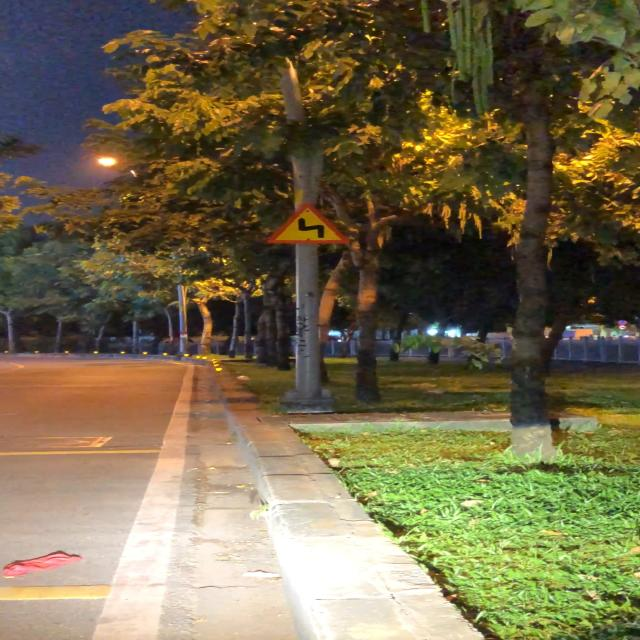Bien bao nhieu cho ngoat nguy hiem lien tiep: (257, 200, 355, 248)
